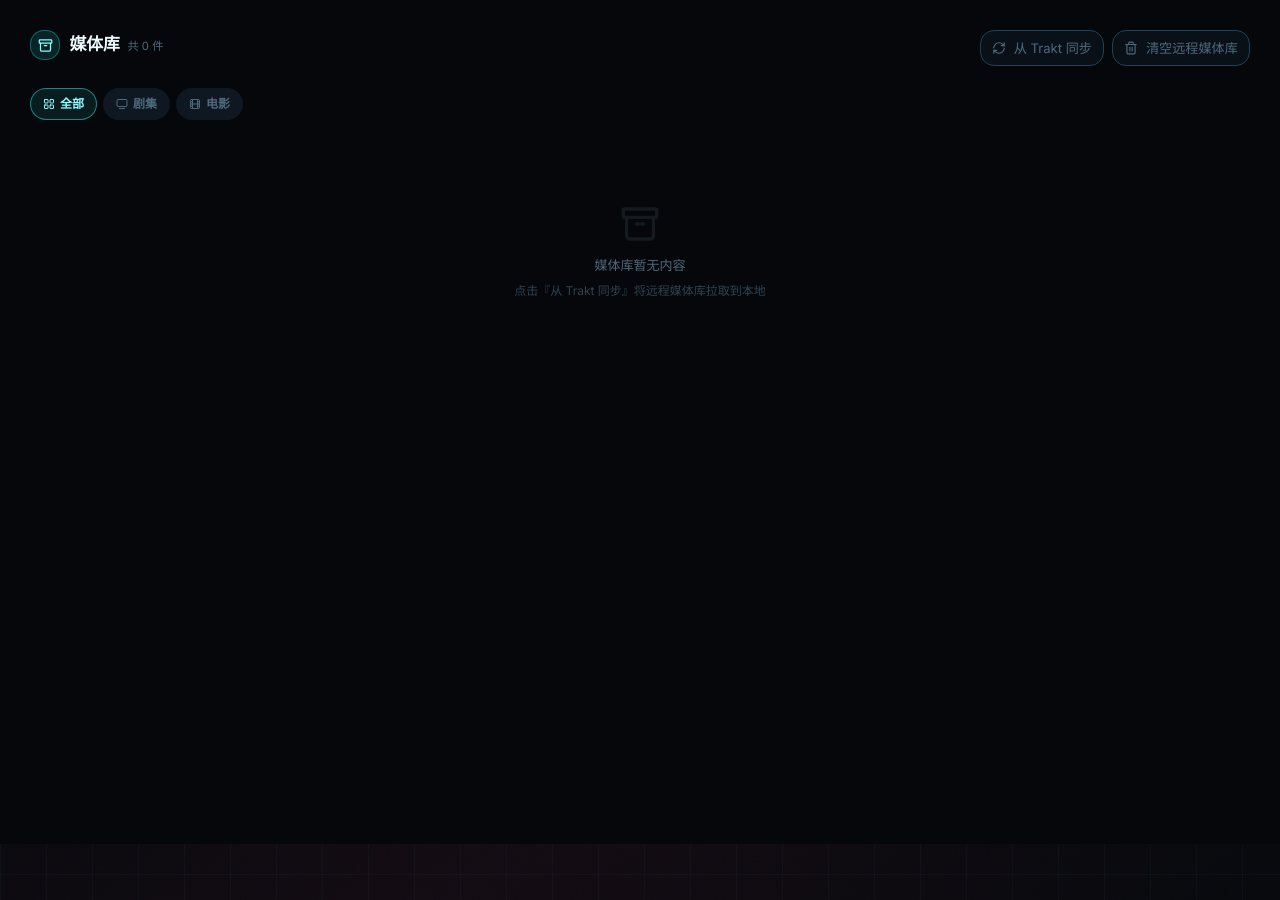
Test: CollectionPage › clear remote flow › disables the confirm/cancel buttons and shows a spinner while pending
Click the button titled "清空远程媒体库" at (1181, 48), box [1112,30,1250,66]
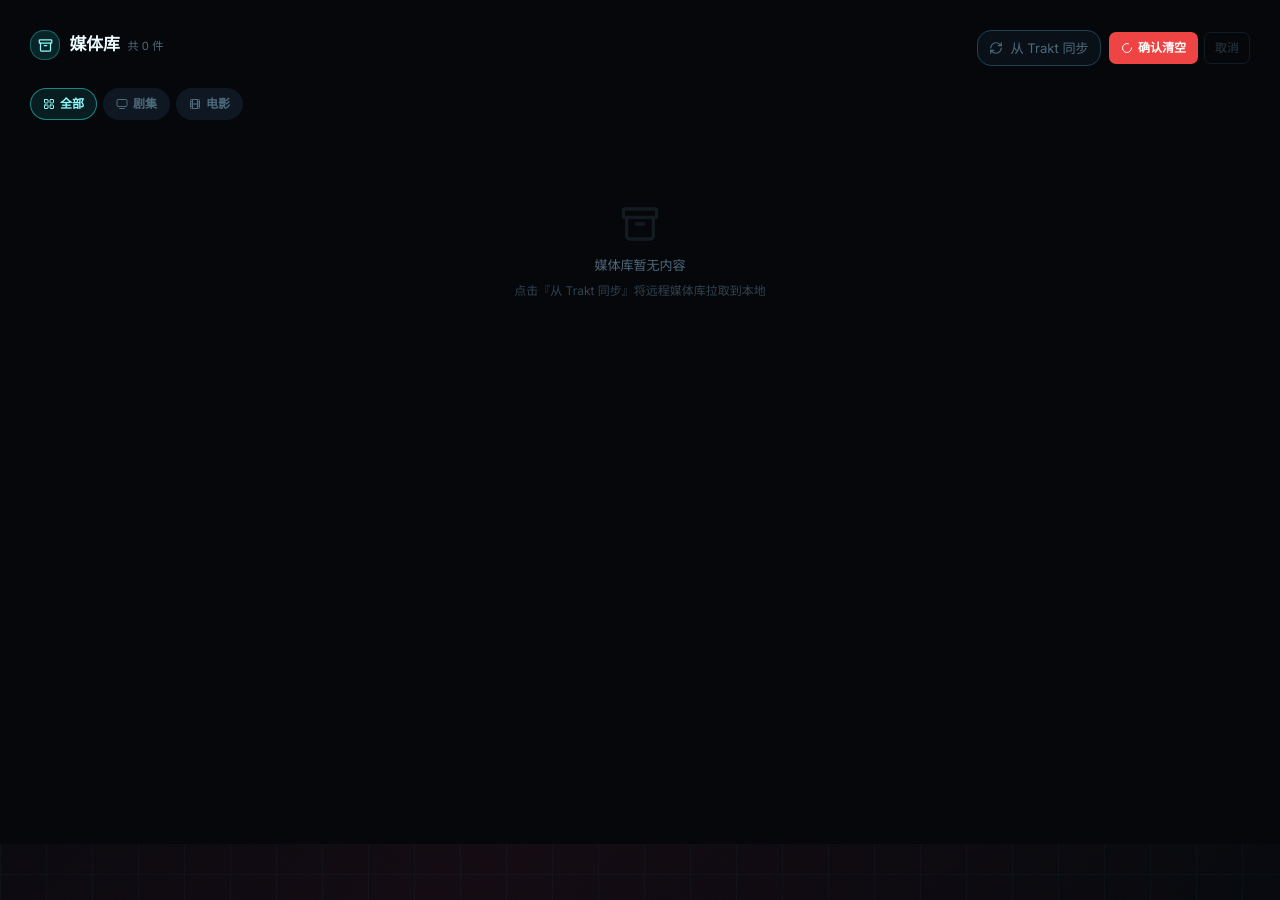
Result: the button "确认清空" is disabled at [1109,32,1198,64]
Result: the button "取消" is disabled at [1204,32,1250,64]
